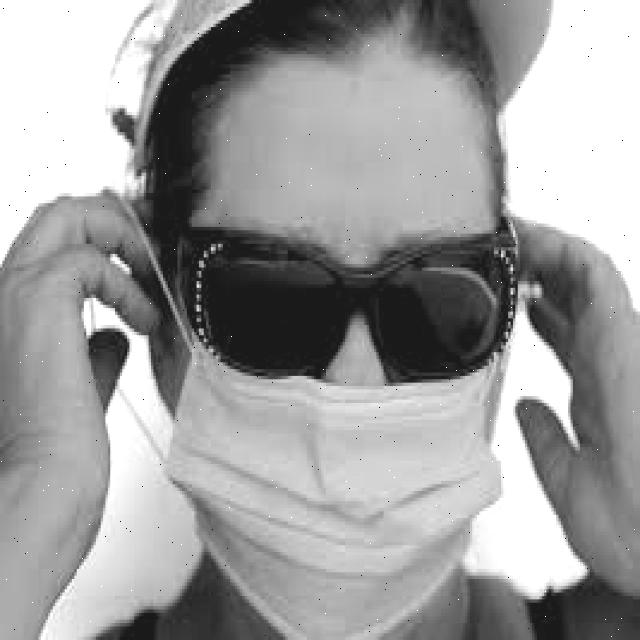fake: (108, 202, 524, 640), (147, 205, 527, 379)
